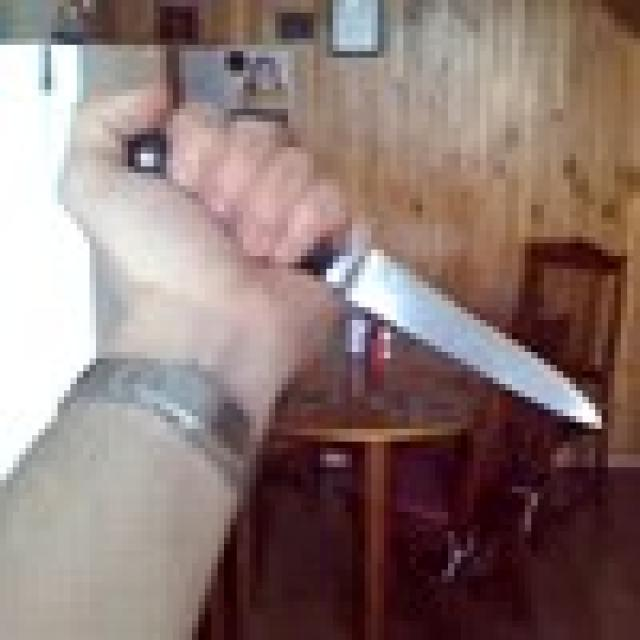Knife: (134, 134, 596, 429)
